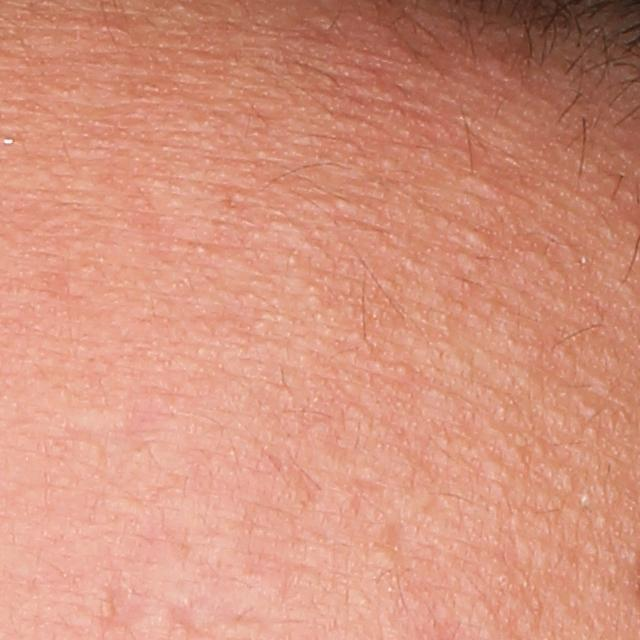atrophic_scar: (94, 568, 169, 630)
comedo: (364, 540, 396, 571), (467, 228, 491, 253)
